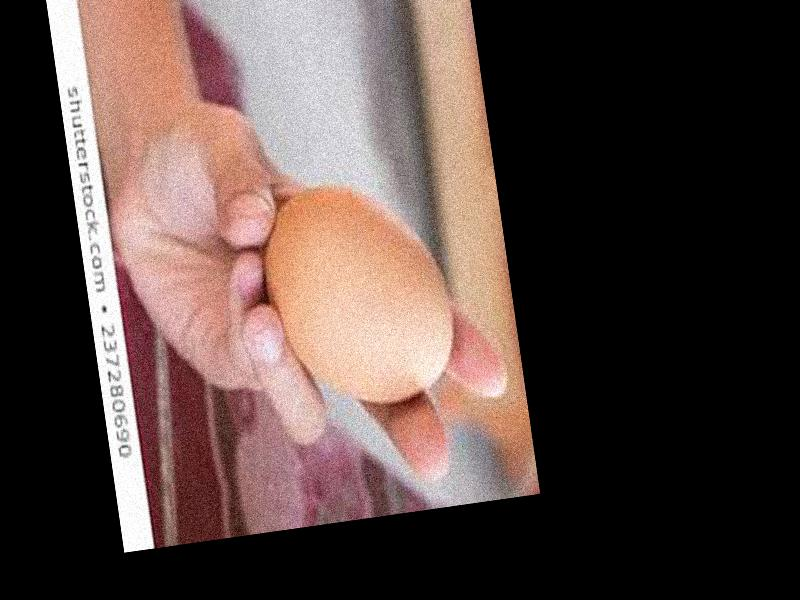Eggs: (255, 174, 462, 419)
